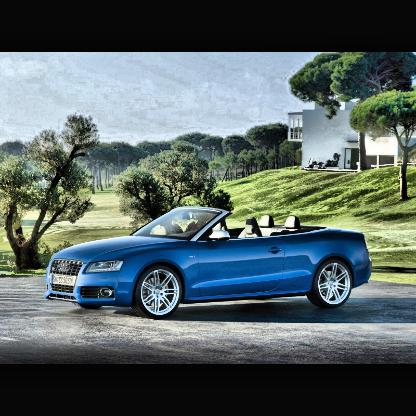Audi S5 Convertible 2012: (47, 208, 374, 320)
